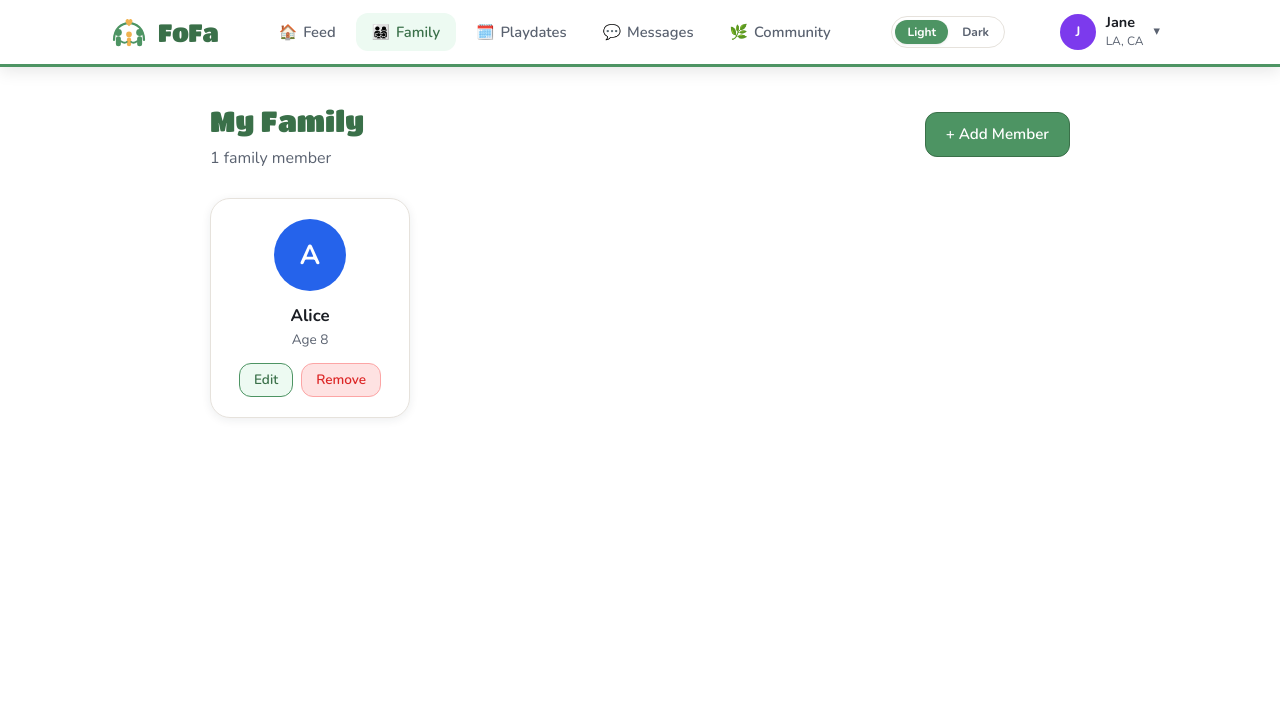
Test: UC-04: Family Member Management › opens the Add Member modal
The image size is (1280, 720).
Click the button "+ Add Member". click: (998, 135)
box: [925,112,1070,157]
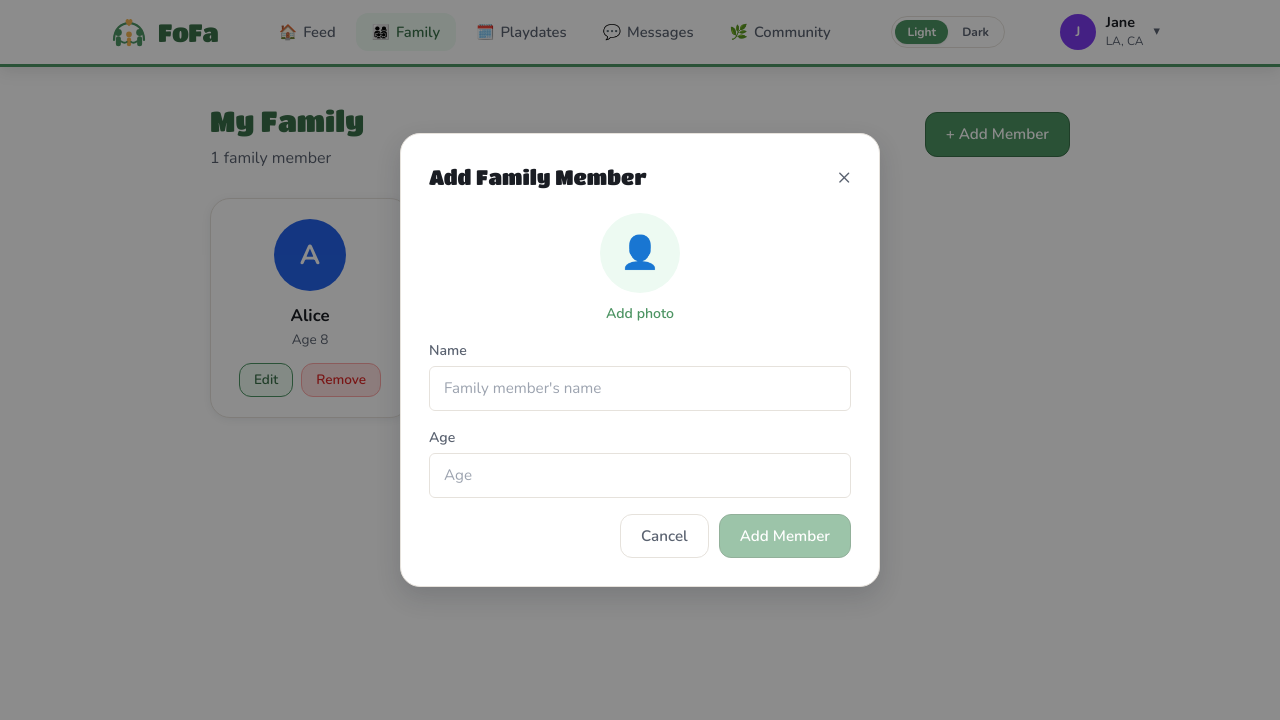
expect the heading "Add Family Member" is shown: met, box [429,162,647,193]
expect the field with placeholder "Family member" is shown: met, box [429,366,851,411]
expect the number field with placeholder "Age" is shown: met, box [429,453,851,498]
